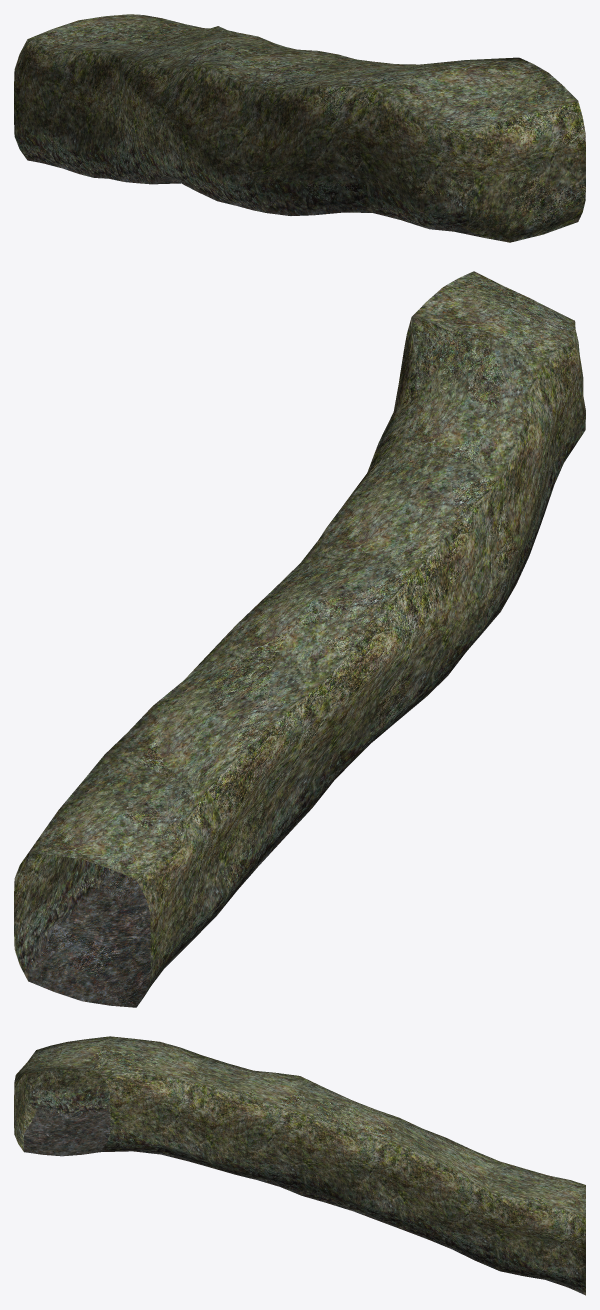
Rendered from thm_all_cave_s03_damprock_mirror_r19_r19.fbx.
3 renders of one model, top to bottom at view 1: azimuth 30°, elevation 25°; view 2: azimuth 150°, elevation 25°; view 3: azimuth 270°, elevation 25°, orthographic. The views are drawn at different scales.
Parts seen in each view (by area): view 1: mesh_node; view 2: mesh_node; view 3: mesh_node.
Part boxes in pixels (x1,y1,x2,y2): mesh_node: (14,14,585,242); mesh_node: (14,271,585,1007); mesh_node: (14,1036,585,1295).
Bounding box in the file's own units: 11.49 × 21.45 × 47.48.
